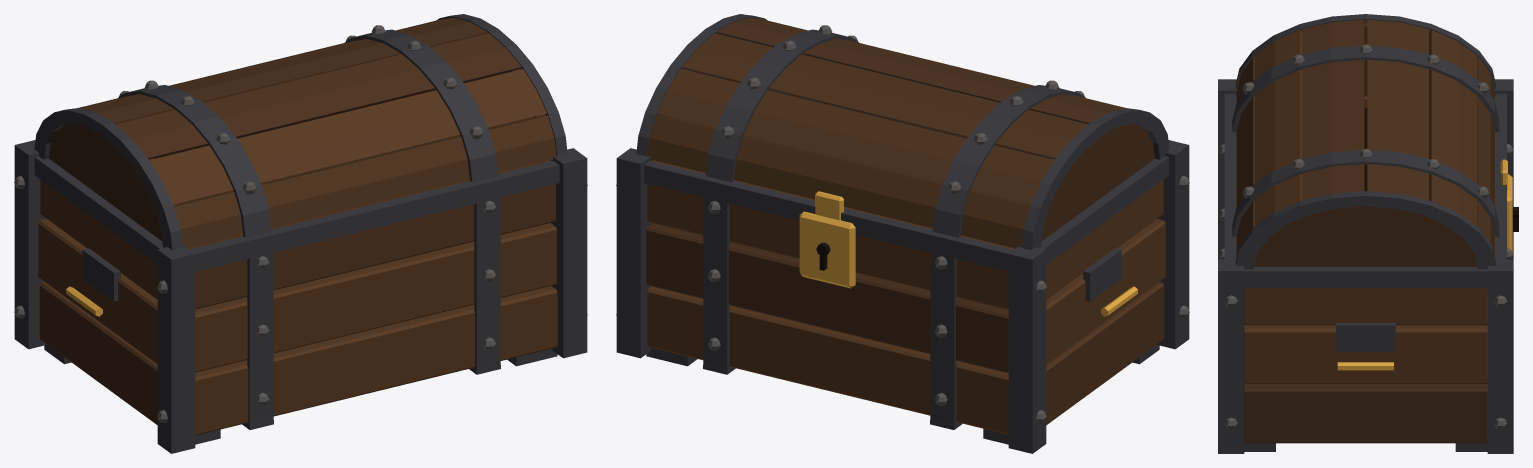
File: chest_iron.glb
3 renders of one model, left to right at view 1: azimuth 30°, elevation 25°; view 2: azimuth 150°, elevation 25°; view 3: azimuth 270°, elevation 25°, orthographic. The views are drawn at different scales.
Visible parts, largest first — view 1: Base, Lid; view 2: Base, Lid; view 3: Lid, Base.
Part boxes in pixels (x1,y1,x2,y2): Base: (14,140,587,453); Lid: (34,14,567,250); Base: (616,140,1189,453); Lid: (636,14,1169,250); Lid: (1232,14,1507,269); Base: (1218,79,1518,453).
Bounding box in the file's own units: 1.28 × 0.7912 × 0.804.
